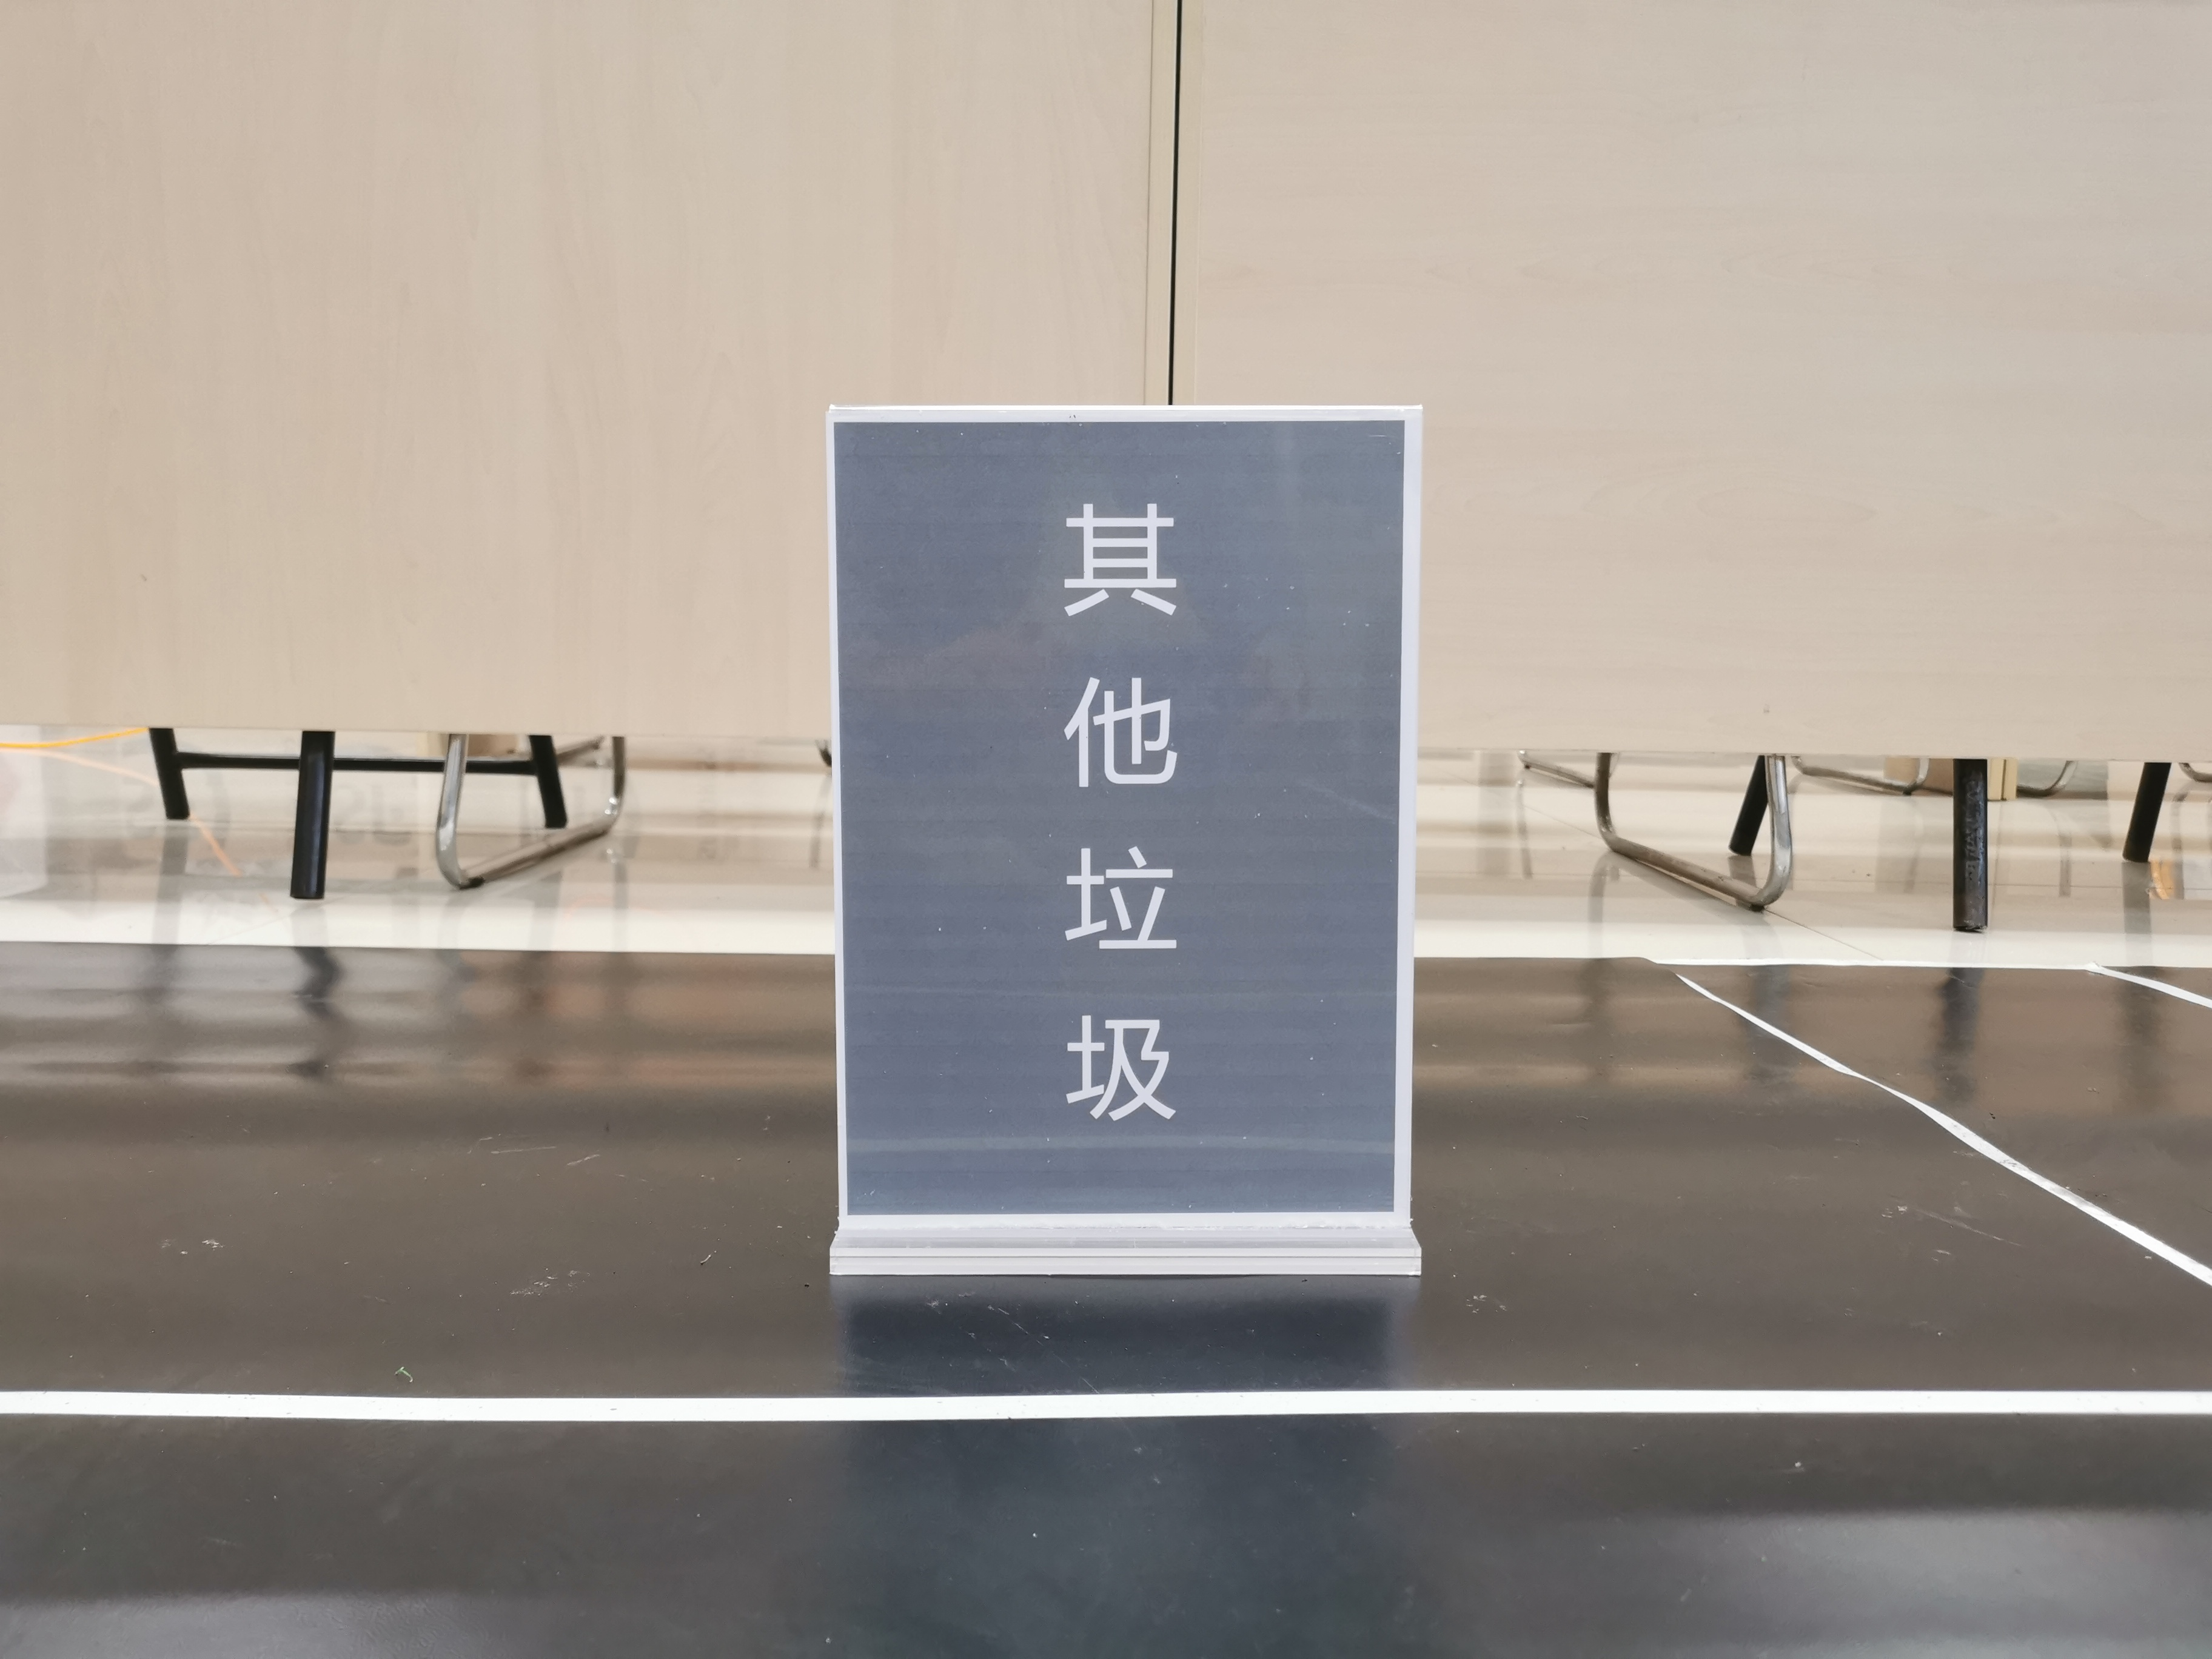black: (853, 439, 1386, 1208)
